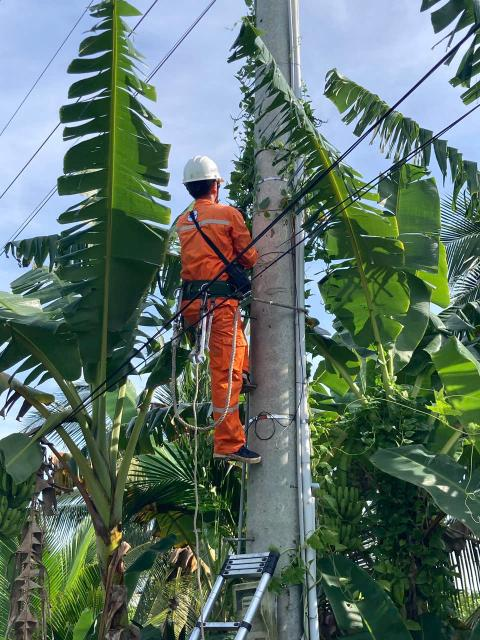harness: (170, 266, 250, 311)
helmet: (178, 148, 224, 190)
shoes: (207, 440, 270, 466), (232, 368, 264, 391)
